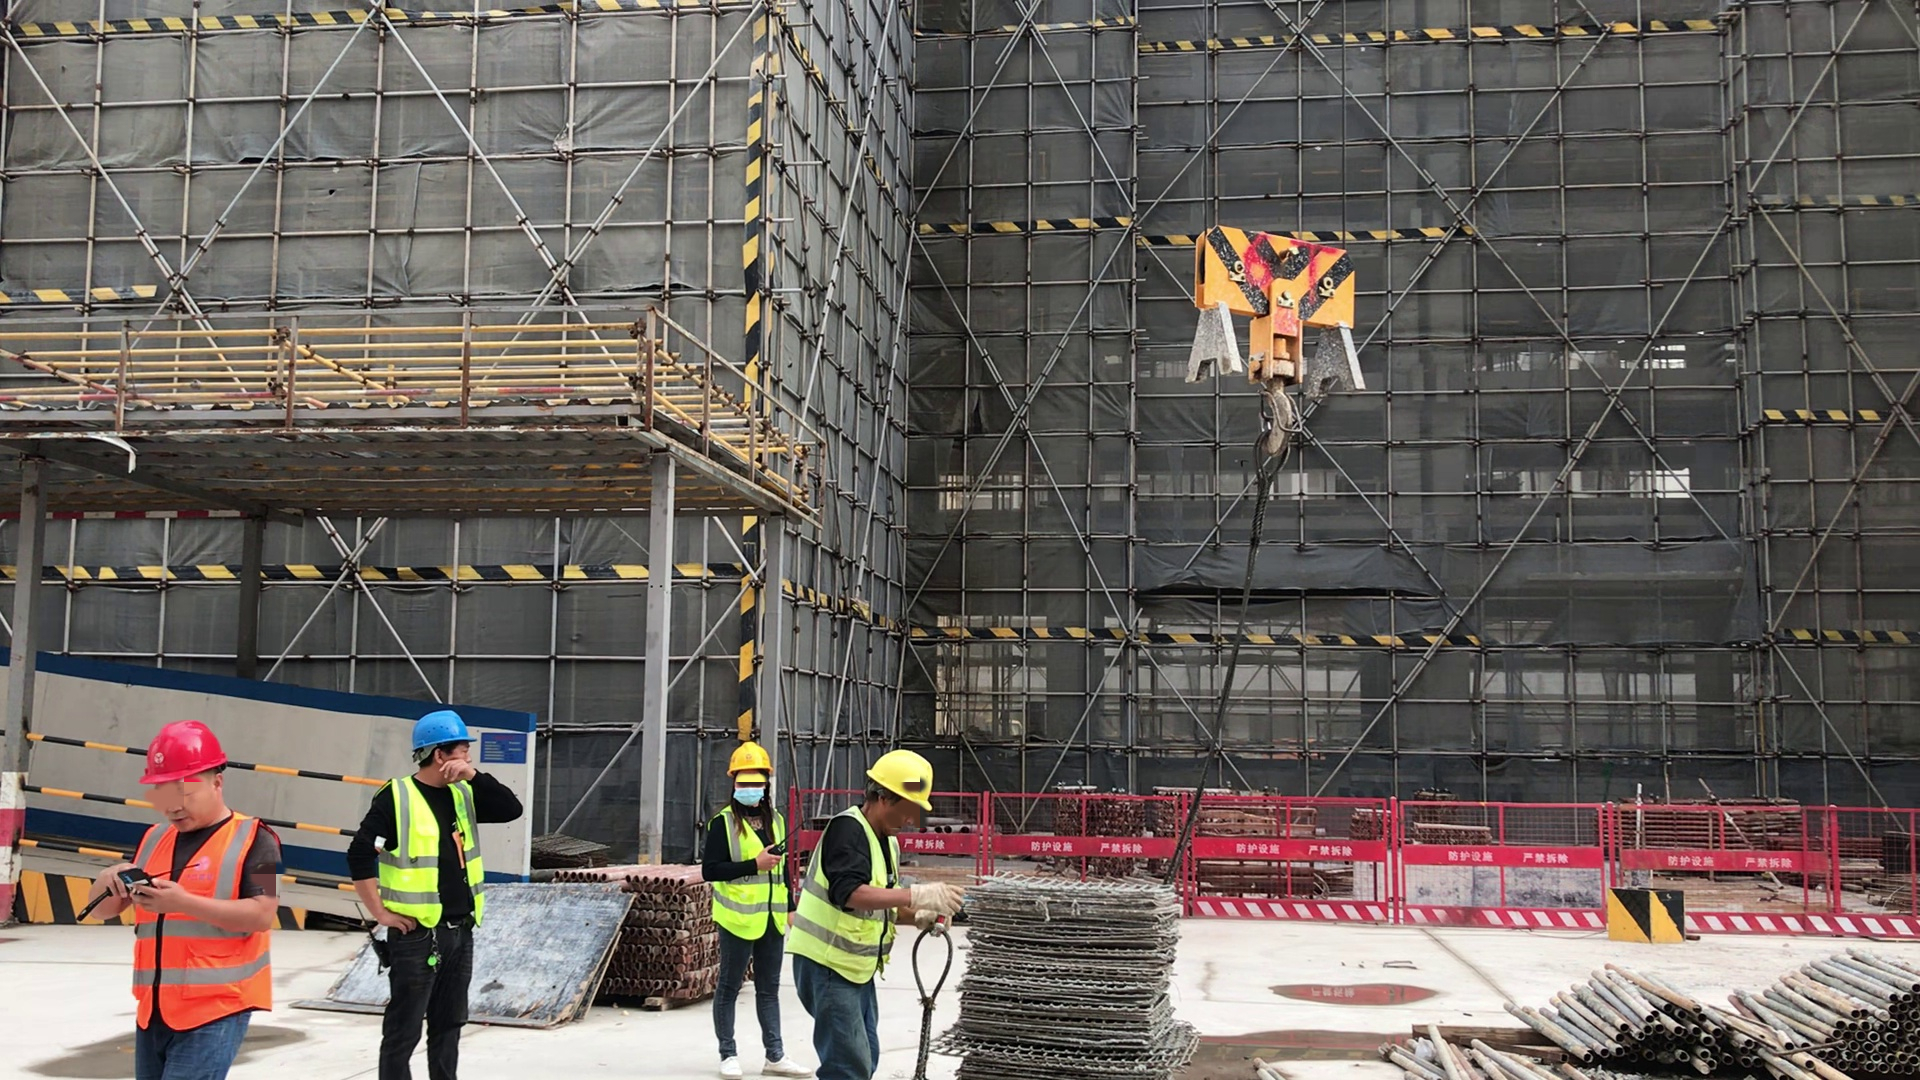fence: (1192, 791, 1602, 935), (1684, 791, 1920, 938), (984, 782, 1181, 871), (39, 724, 115, 869)
helmet: (137, 724, 230, 789), (860, 745, 933, 819), (408, 711, 477, 754), (721, 745, 773, 774)
hook: (1177, 216, 1367, 480)
person: (352, 709, 528, 1080), (97, 722, 272, 1080), (789, 748, 966, 1080), (697, 742, 791, 1080)
scaffold: (1519, 949, 1913, 1080), (611, 858, 714, 1004)
vest: (136, 813, 274, 1034), (375, 769, 489, 938), (791, 811, 900, 986), (711, 805, 789, 943)
